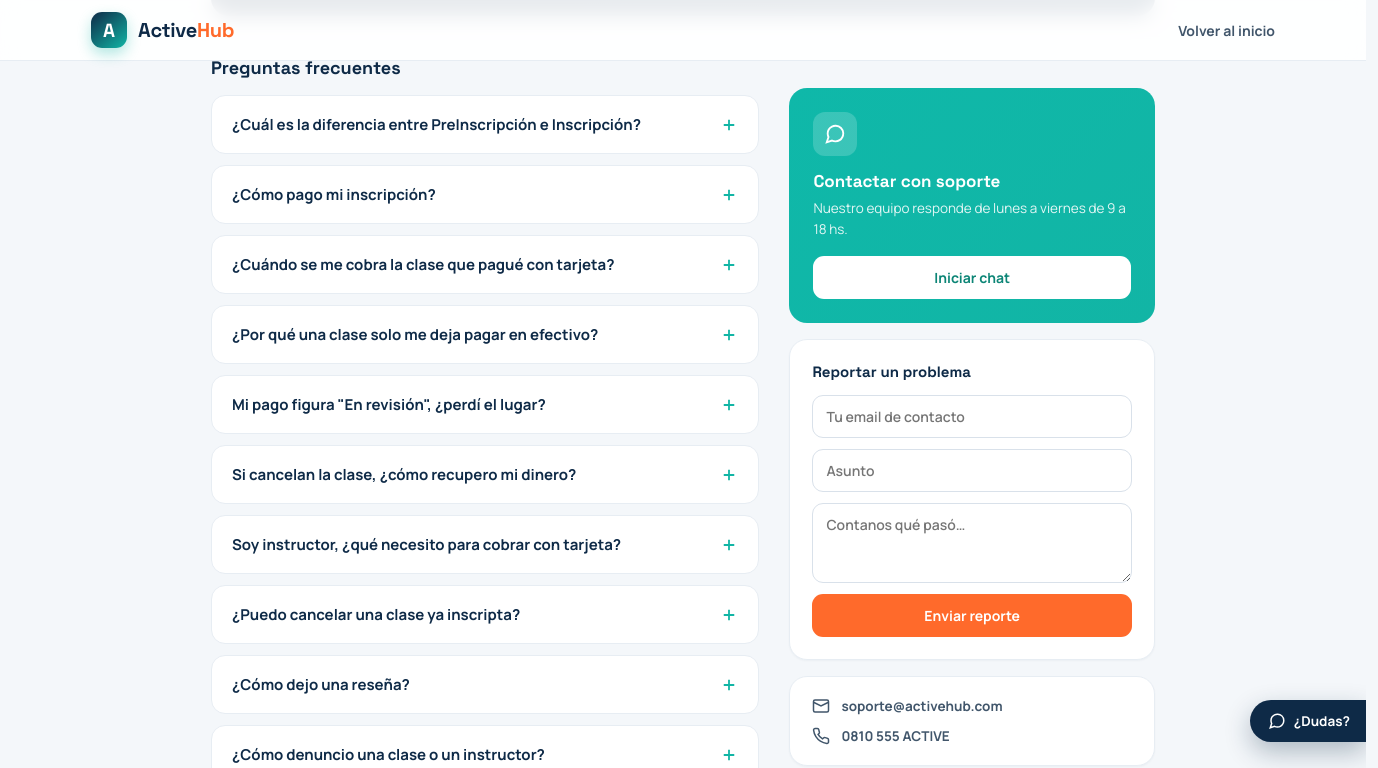
Test: reportar un problema › envía el reporte de verdad, con los campos recortados
(page scrolled)
Type "  ana@test.com  " into the field with placeholder "Tu email de contacto" at coordinates (972, 416), box [812,395,1132,438]
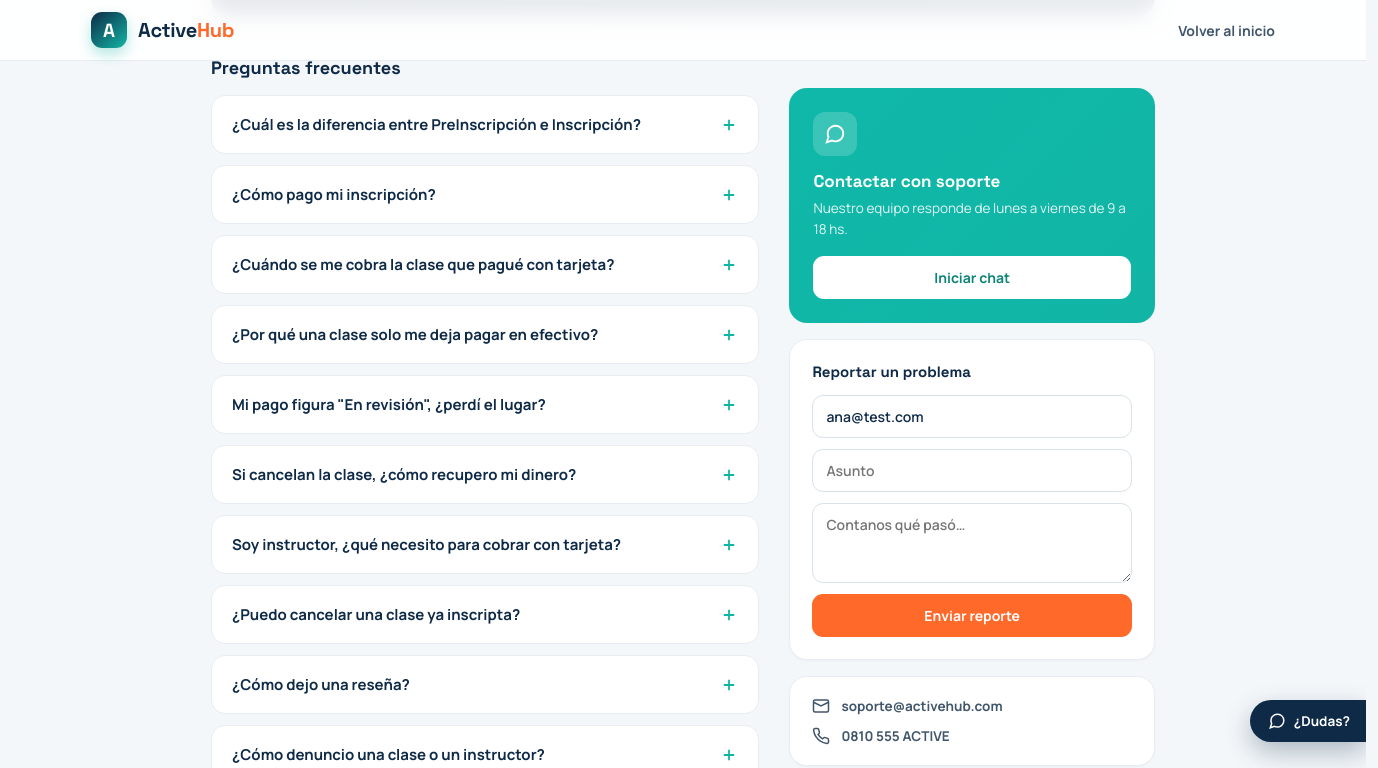
Type "  No puedo entrar  " into the field with placeholder "Asunto" at coordinates (972, 470), box [812,449,1132,492]
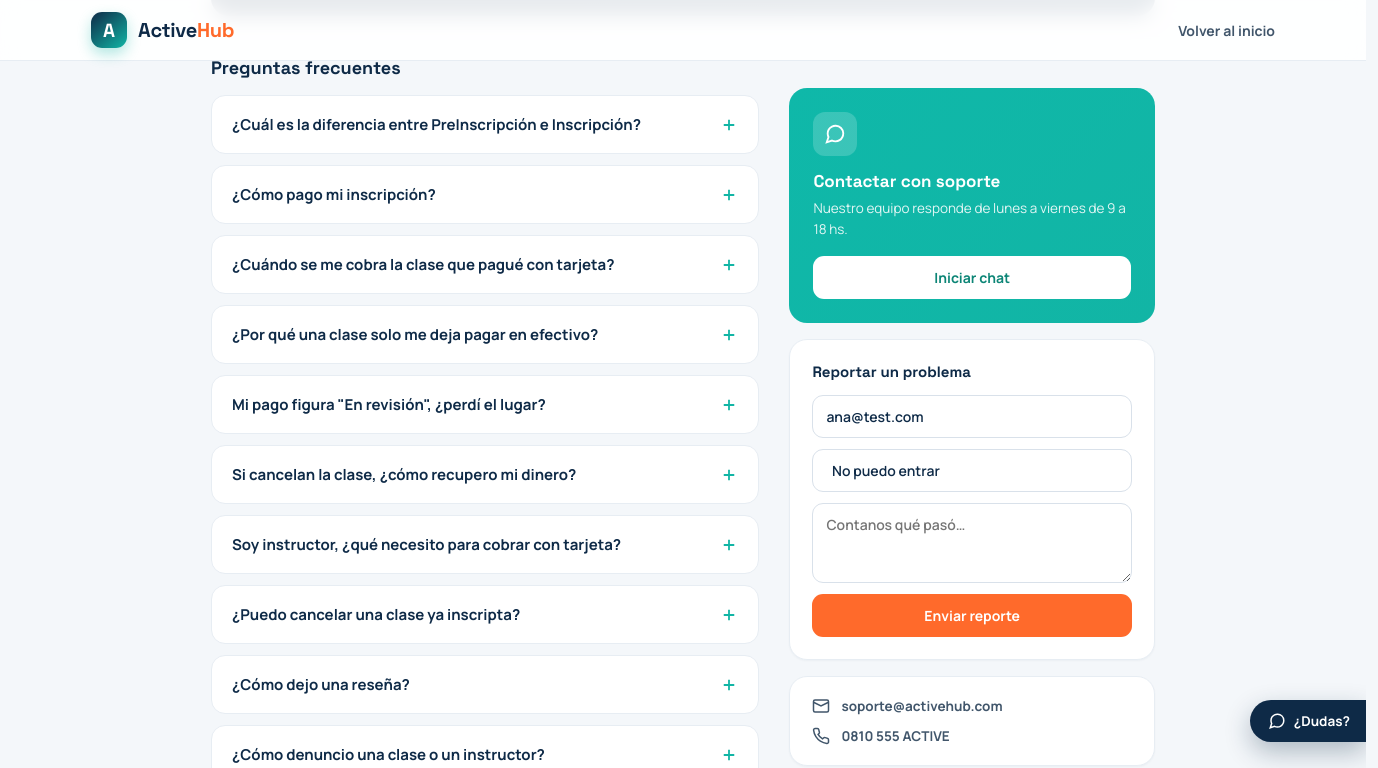
Type "  El código no llega  " into the text box with placeholder "Contanos qué pasó…" at coordinates (972, 543), box [812,503,1132,583]
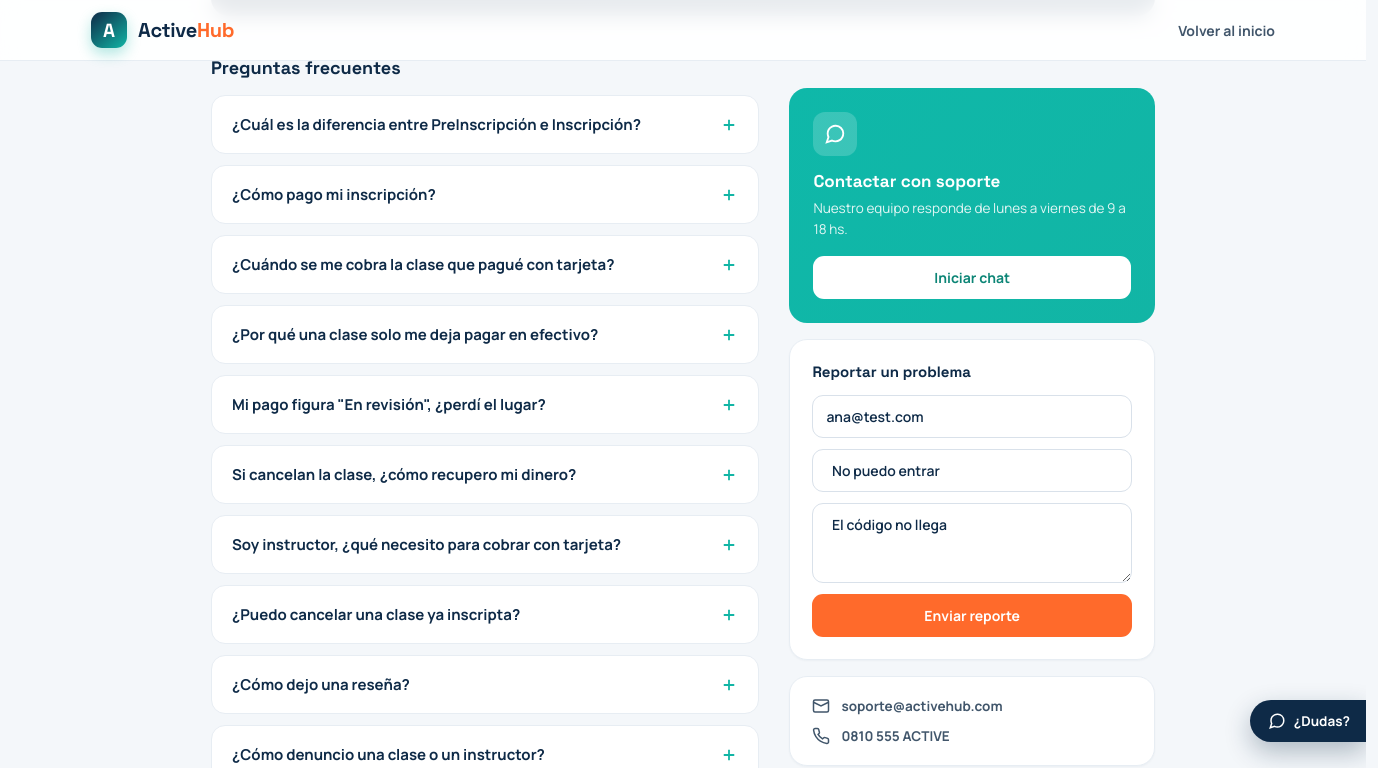
Click the button "Enviar reporte" at coordinates (972, 615), box [812,594,1132,637]
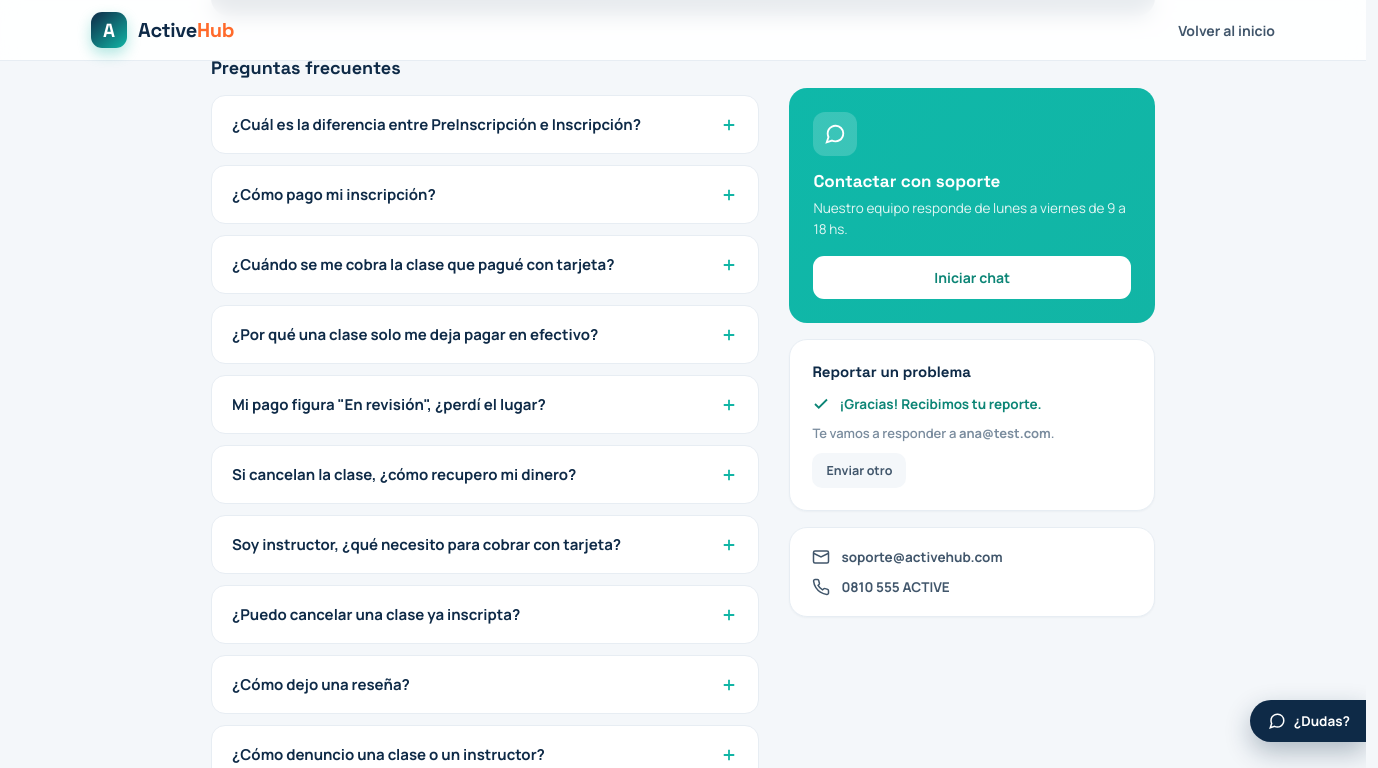
Expected: the text "¡Gracias! Recibimos tu reporte." is shown, [812,395,1042,413]
